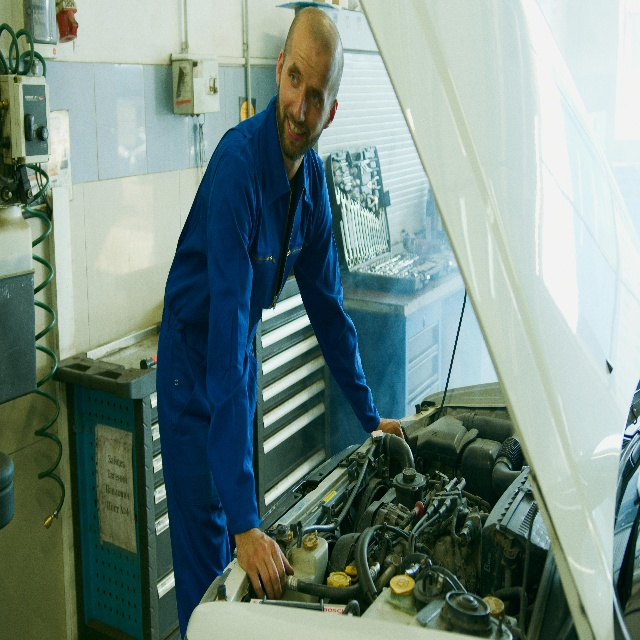Sin_guantes: (236, 526, 295, 600), (375, 417, 404, 440)
